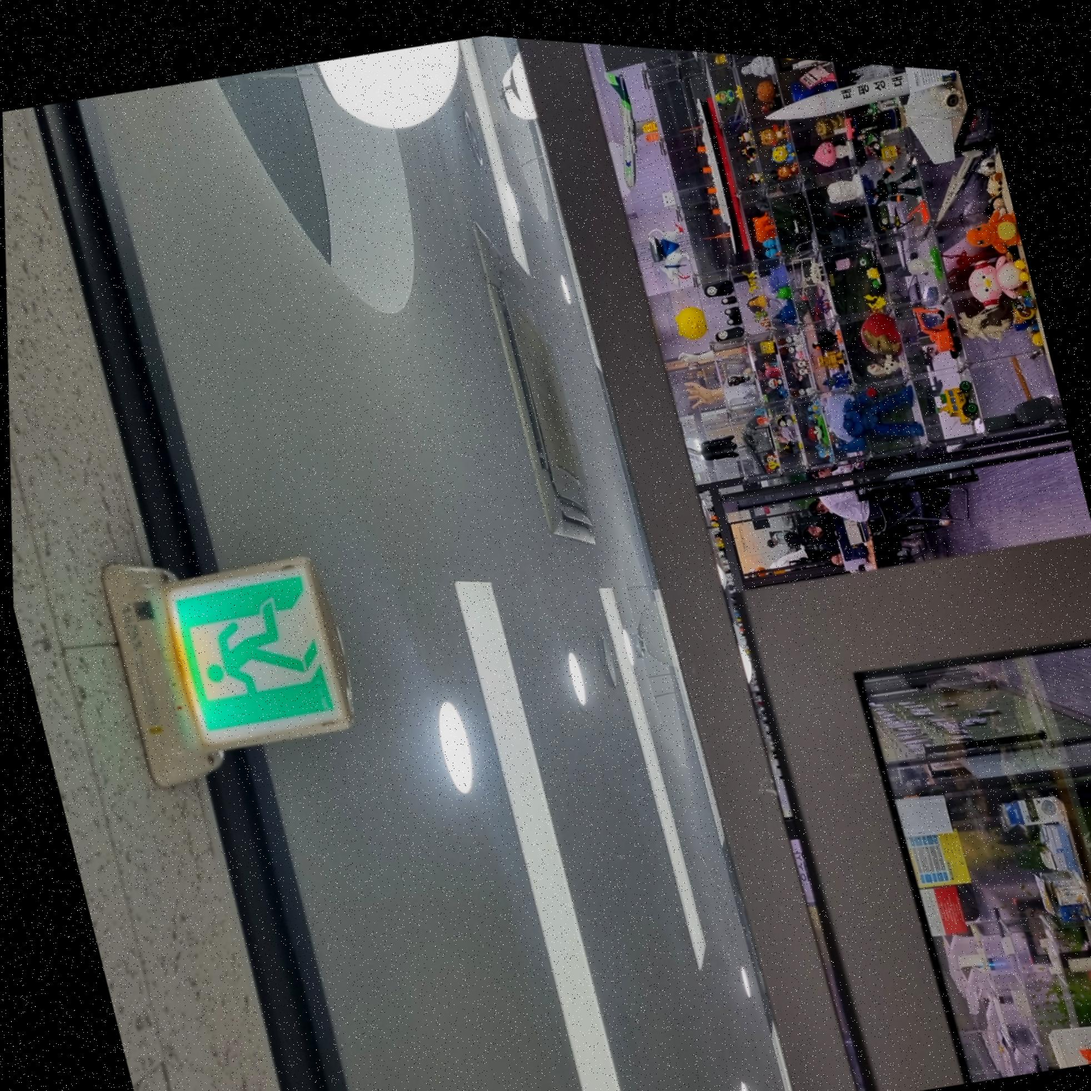emergency_exit: (162, 555, 354, 752)
